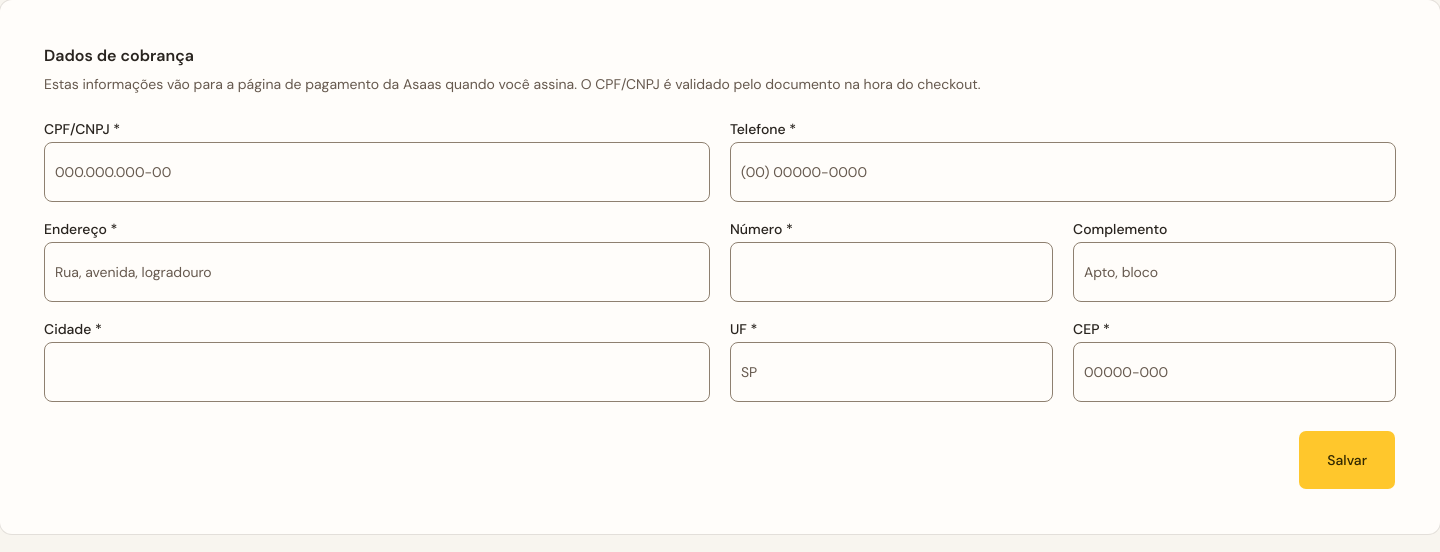
Scenario: billing CPF/CNPJ field › accepts a full CNPJ typed one digit at a time
In the field labelled "CPF/CNPJ *": (377, 172) [44,142,710,202], type "12345678000195"
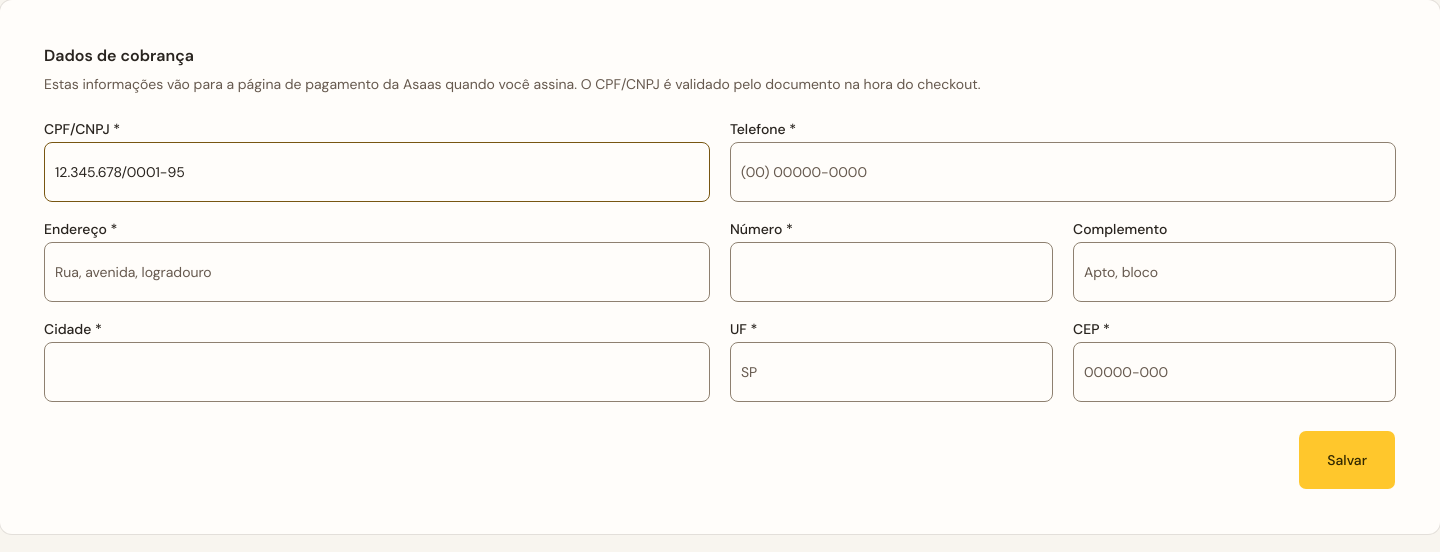
Check: the field labelled "CPF/CNPJ *" holds "12.345.678/0001-95", box [44,142,710,202]
